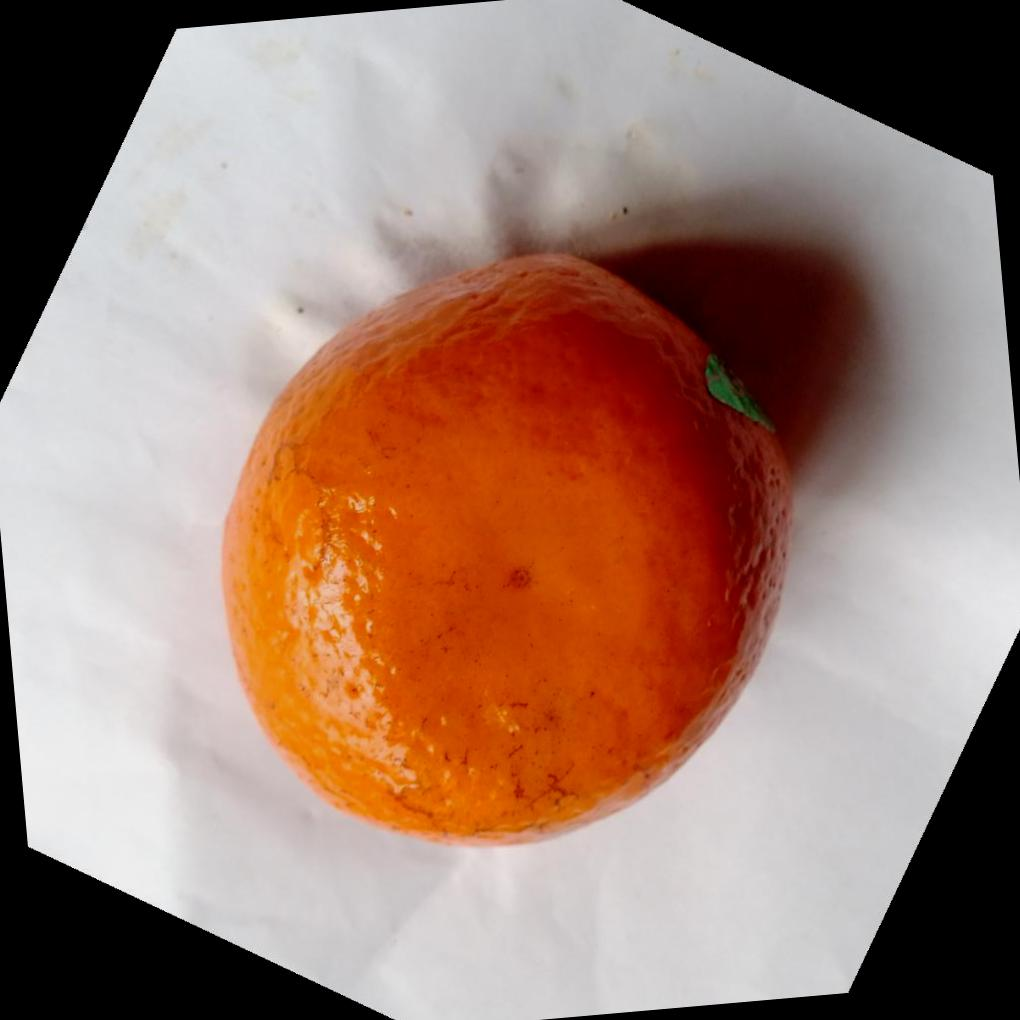FreshOrange: (219, 248, 796, 847)
